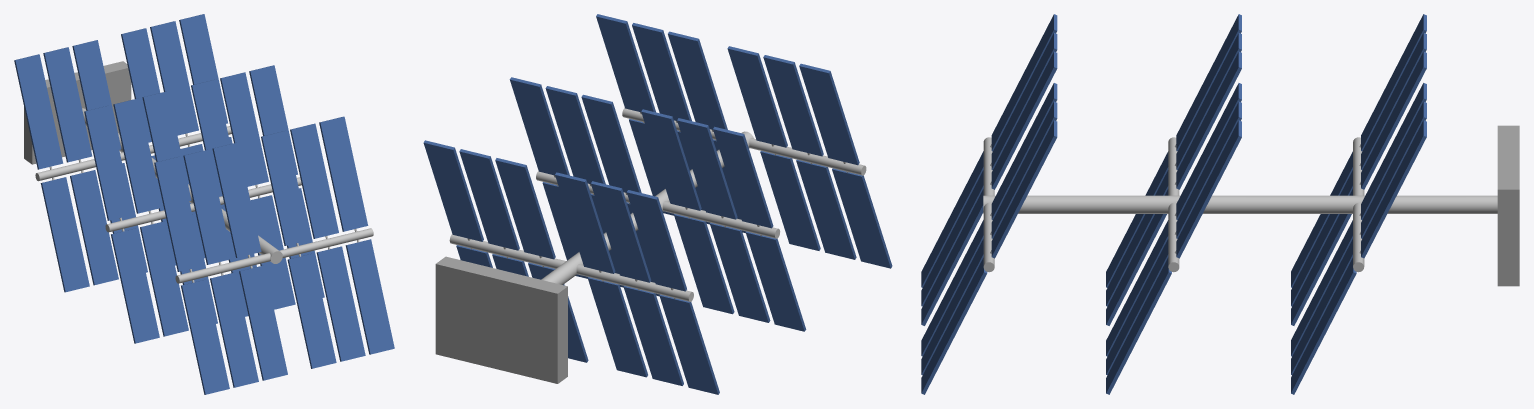
Rendered from Solar_Array.fbx.
The picture shows the model from 3 angles, left to right: view 1: azimuth 30°, elevation 25°; view 2: azimuth 150°, elevation 25°; view 3: azimuth 270°, elevation 25°; orthographic projection. The views are drawn at different scales.
Visible parts, largest first — view 1: polySurface8, polySurface16, polySurface24, Supports, Dock_Bridge; view 2: polySurface24, polySurface16, polySurface8, Dock_Bridge, Supports; view 3: polySurface8, polySurface16, polySurface24, Supports, Dock_Bridge.
Boxes of the visible parts, x1,y1,x2,y2 form: polySurface8: [154, 116, 394, 394]; polySurface16: [84, 65, 324, 343]; polySurface24: [14, 14, 232, 292]; Supports: [35, 108, 373, 283]; Dock_Bridge: [24, 61, 131, 164]; polySurface24: [423, 140, 719, 394]; polySurface16: [509, 77, 806, 331]; polySurface8: [596, 14, 892, 268]; Dock_Bridge: [435, 256, 567, 383]; Supports: [449, 108, 866, 301]; polySurface8: [921, 14, 1057, 394]; polySurface16: [1106, 14, 1241, 394]; polySurface24: [1291, 14, 1426, 394]; Supports: [983, 137, 1497, 272]; Dock_Bridge: [1497, 125, 1519, 286].
Size of the model in its own units: 8 by 7.74 by 16.19.
